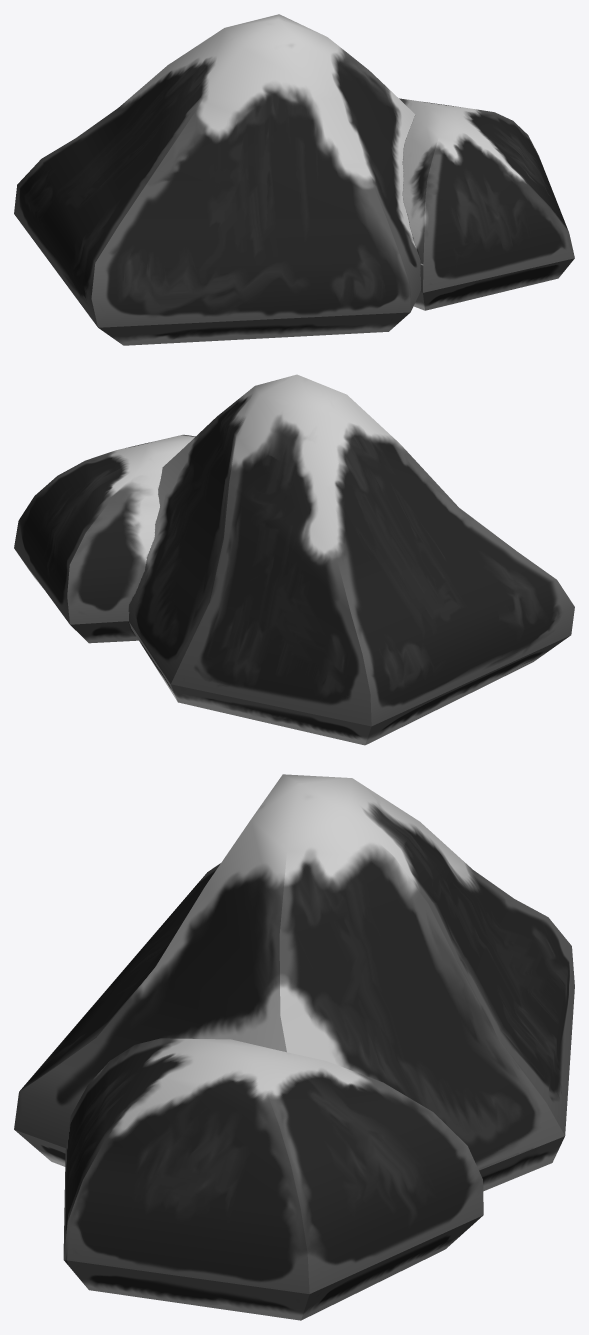
Rendered from rock1.fbx.
3 renders of one model, top to bottom at view 1: azimuth 30°, elevation 25°; view 2: azimuth 150°, elevation 25°; view 3: azimuth 270°, elevation 25°, orthographic. The views are drawn at different scales.
Visible parts, largest first — view 1: Sphere.001; view 2: Sphere.001; view 3: Sphere.001.
Part boxes in pixels (<box>): Sphere.001: <box>14,14,574,345</box>; Sphere.001: <box>14,374,574,745</box>; Sphere.001: <box>14,774,574,1320</box>.
Bounding box in the file's own units: 353 × 175 × 245.
